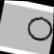no answer: (16, 11, 54, 49)
